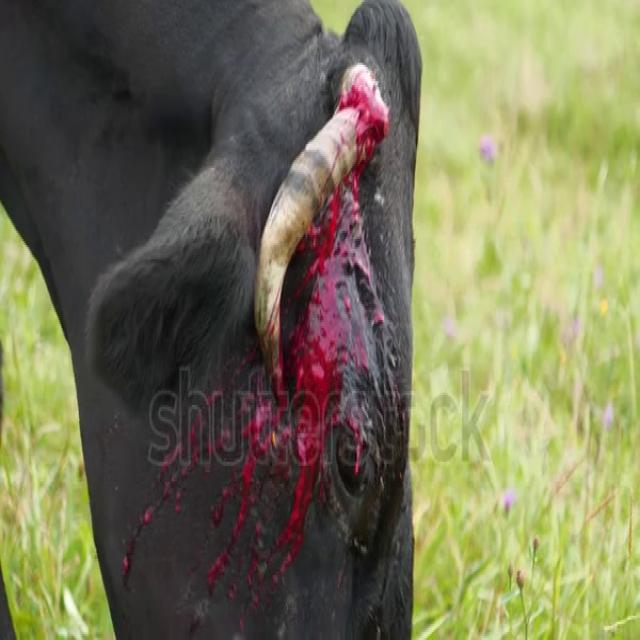injured-animals: (0, 0, 428, 638)
